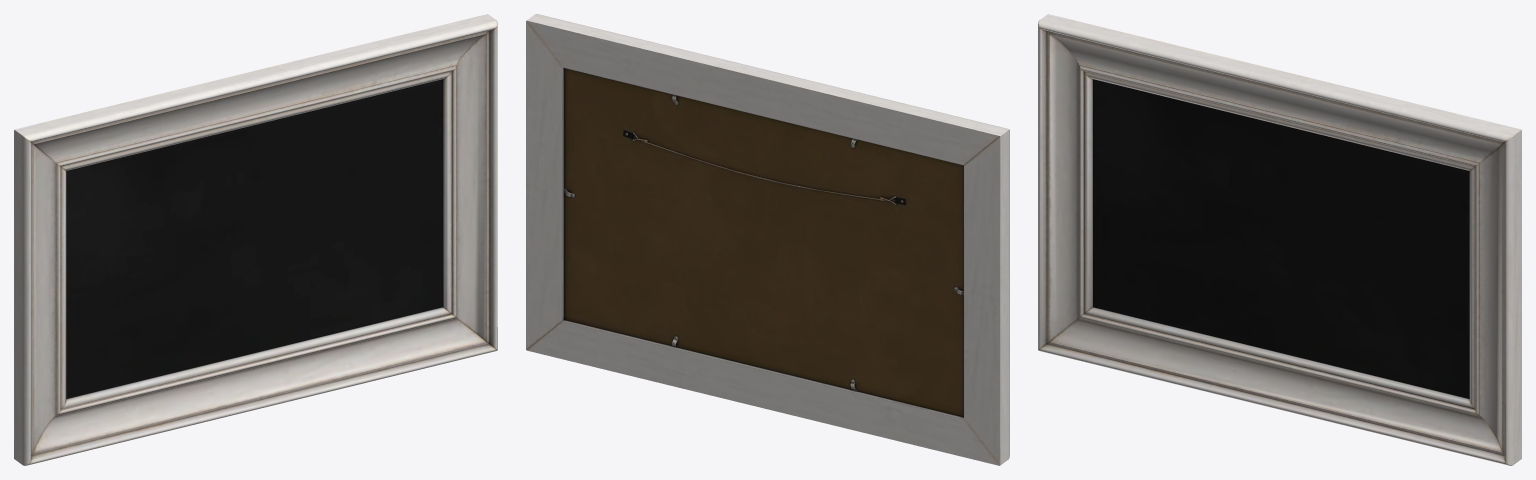
Rendered from frame3.glb.
The picture shows the model from 3 angles, left to right: view 1: azimuth 30°, elevation 25°; view 2: azimuth 150°, elevation 25°; view 3: azimuth 330°, elevation 25°; orthographic projection.
Visible parts, largest first — view 1: hanging_picture_frame_02; view 2: hanging_picture_frame_02; view 3: hanging_picture_frame_02.
Part boxes in pixels (<box>): hanging_picture_frame_02: <box>14,14,497,465</box>; hanging_picture_frame_02: <box>526,14,1009,465</box>; hanging_picture_frame_02: <box>1038,14,1521,465</box>.
Bounding box in the file's own units: 0.7518 × 0.5 × 0.033.
3 materials, 3 textured.
